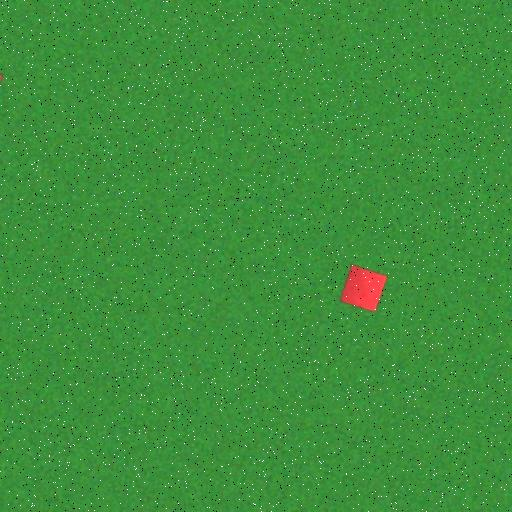RED_SQUARE: (339, 263, 388, 313)
